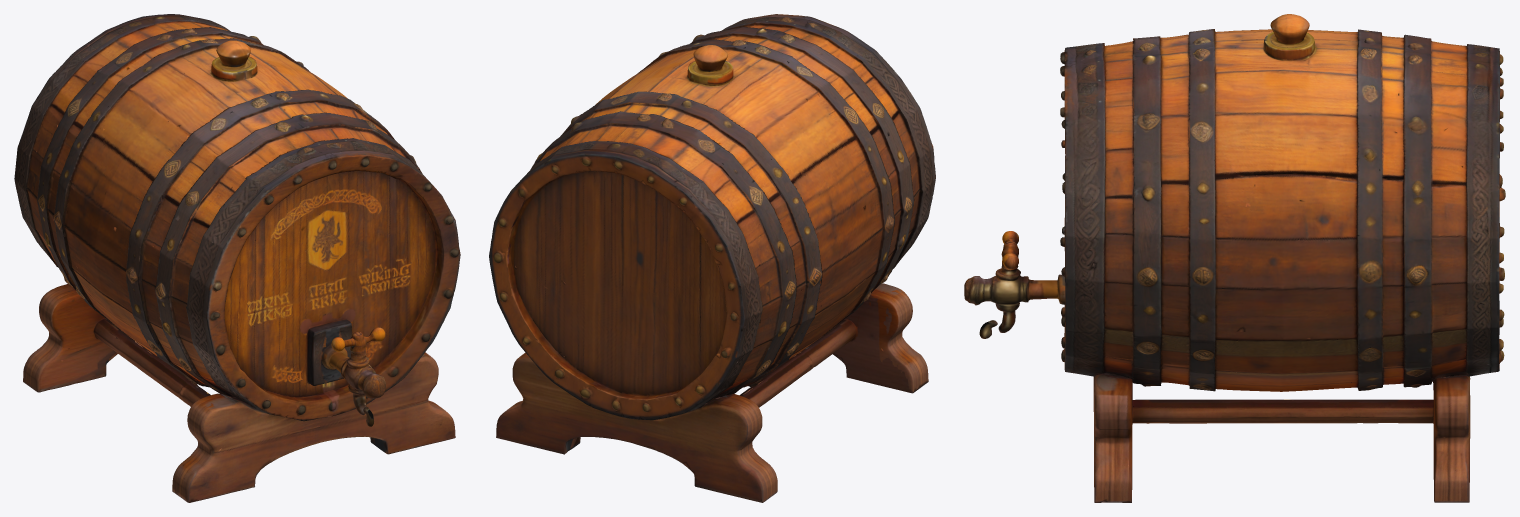
The model's file is A_large_hand_crafted_0722155257_texture.fbx.
The picture shows the model from 3 angles, left to right: view 1: azimuth 30°, elevation 25°; view 2: azimuth 150°, elevation 25°; view 3: azimuth 270°, elevation 25°; orthographic projection. The views are drawn at different scales.
Visible parts, largest first — view 1: Mesh_0; view 2: Mesh_0; view 3: Mesh_0.
Part boxes in pixels (bbox=[...]): Mesh_0: bbox=[14, 14, 460, 502]; Mesh_0: bbox=[489, 14, 935, 502]; Mesh_0: bbox=[964, 14, 1505, 502].
Bounding box in the file's own units: 138 × 168 × 200.
1 material, 1 textured.
